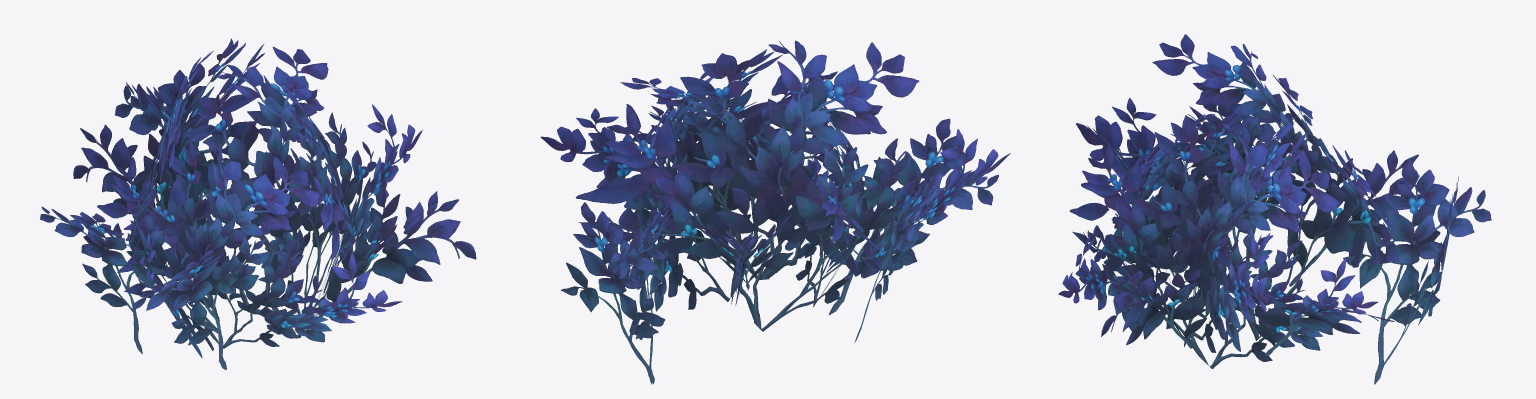
The picture shows the model from 3 angles, left to right: view 1: azimuth 30°, elevation 25°; view 2: azimuth 150°, elevation 25°; view 3: azimuth 270°, elevation 25°; orthographic projection. The views are drawn at different scales.
Bounding box in the file's own units: 3.57 × 2.82 × 3.67.
1 material, 1 textured.
